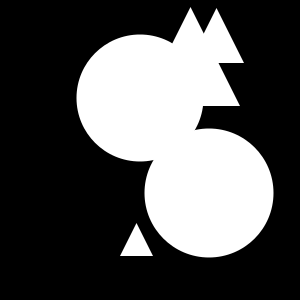rectangle: (144, 128, 274, 258), (76, 34, 204, 162)
triangle: (141, 7, 240, 106), (189, 8, 244, 63), (120, 223, 153, 256)
